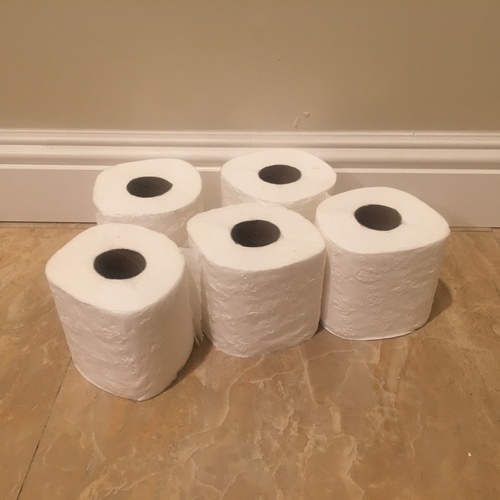roll: (44, 222, 195, 400), (185, 203, 325, 357), (311, 186, 451, 339), (93, 159, 203, 248), (221, 149, 337, 215)
